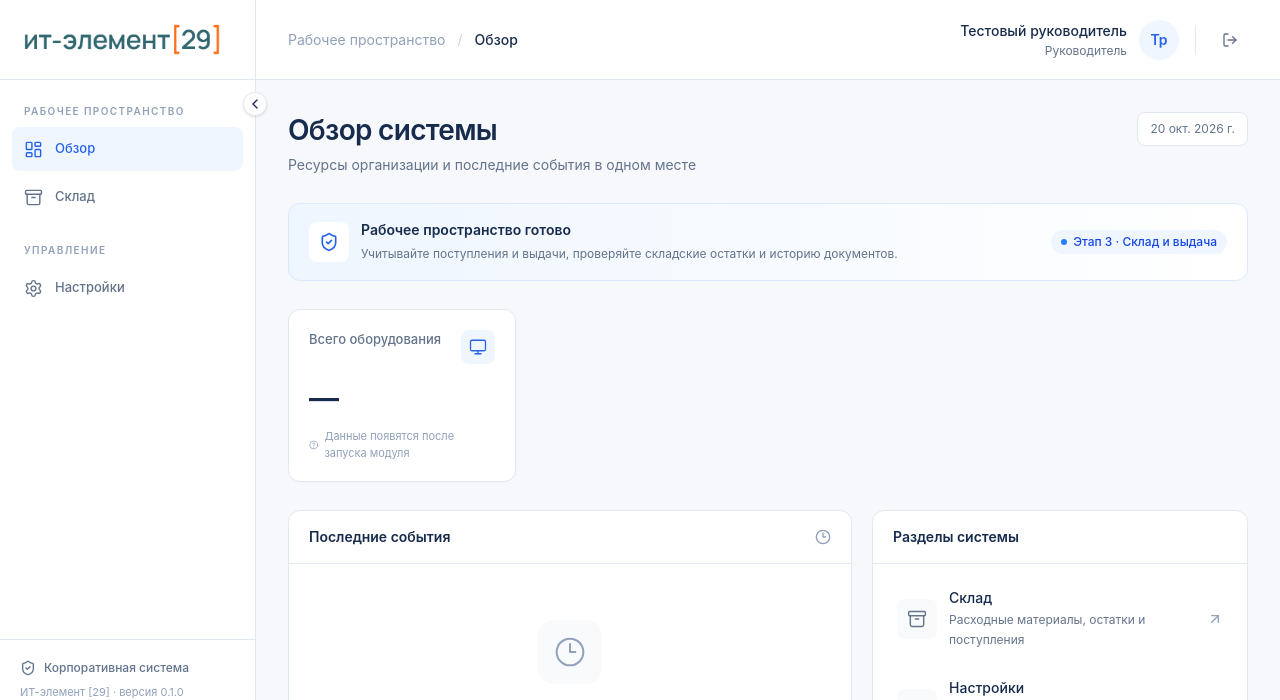
Test: Авторизация и интерфейс › выход очищает данные и возвращает форму входа
Expected: the heading "Обзор системы" is shown, [288,113,497,147]
Click the button named "Выйти". click: (1230, 40)
box: [1212,22,1248,58]
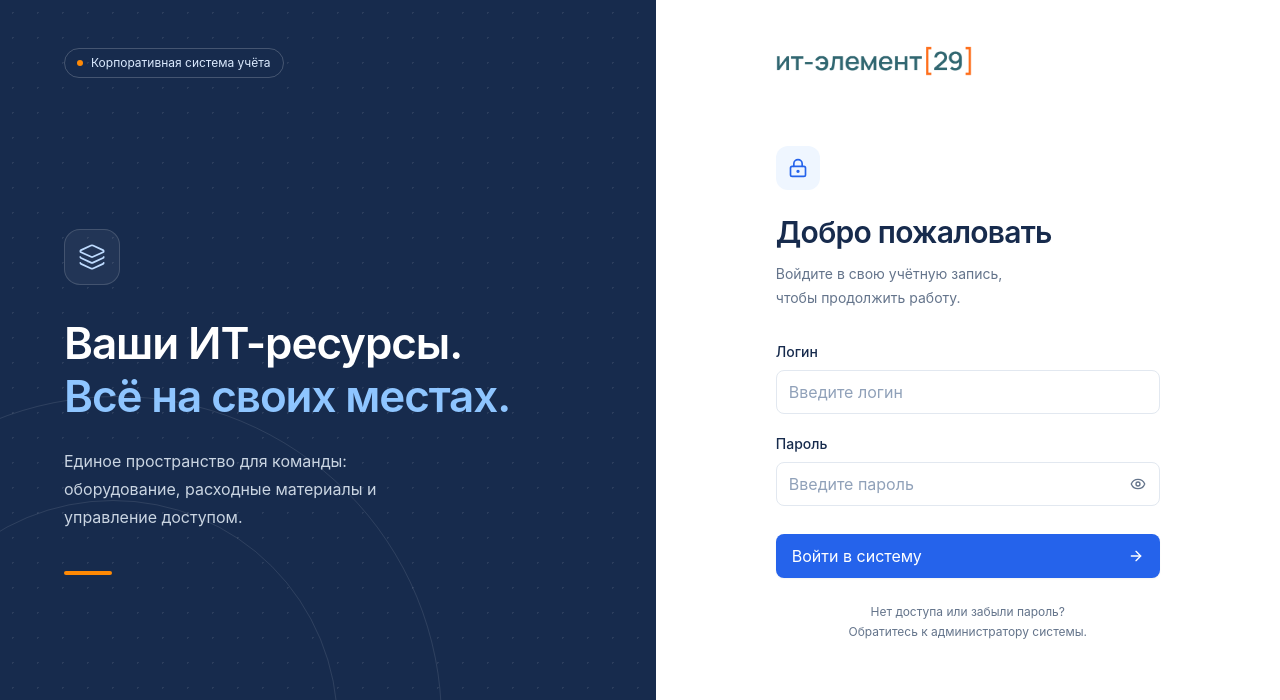
Now the button "Войти в систему" is shown, box [776,534,1160,578]
